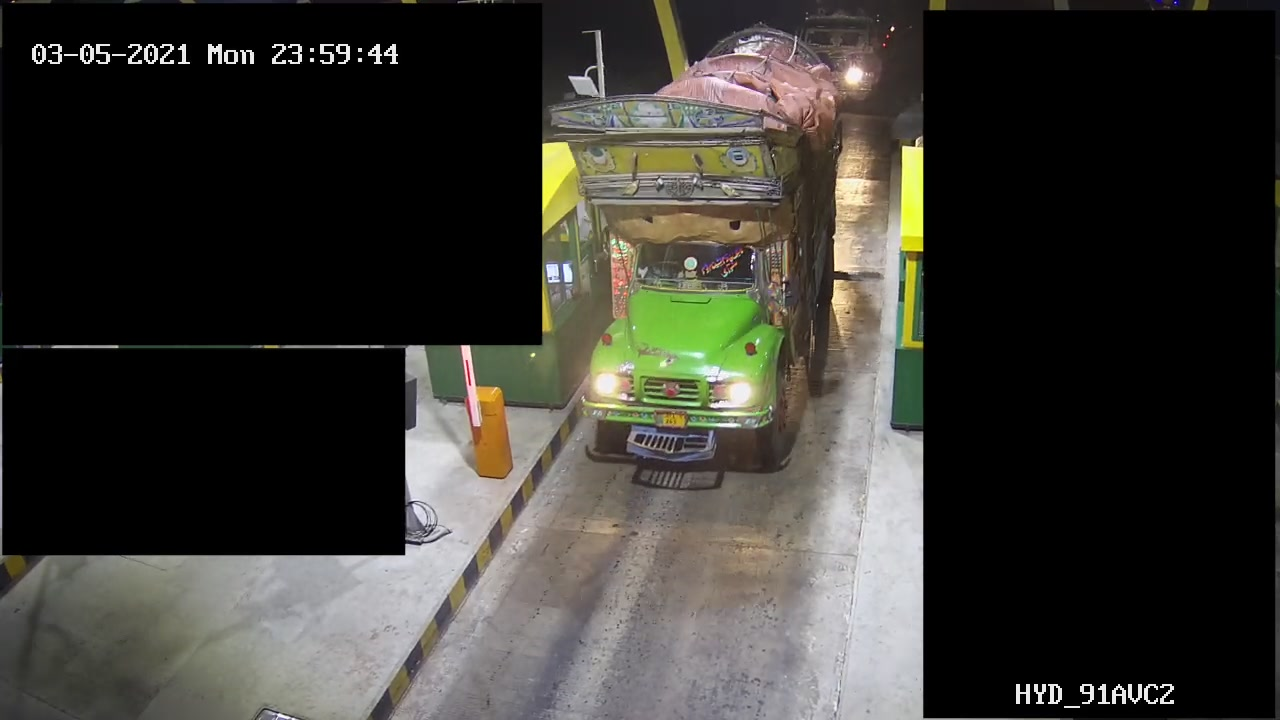F5: (547, 21, 842, 487)
